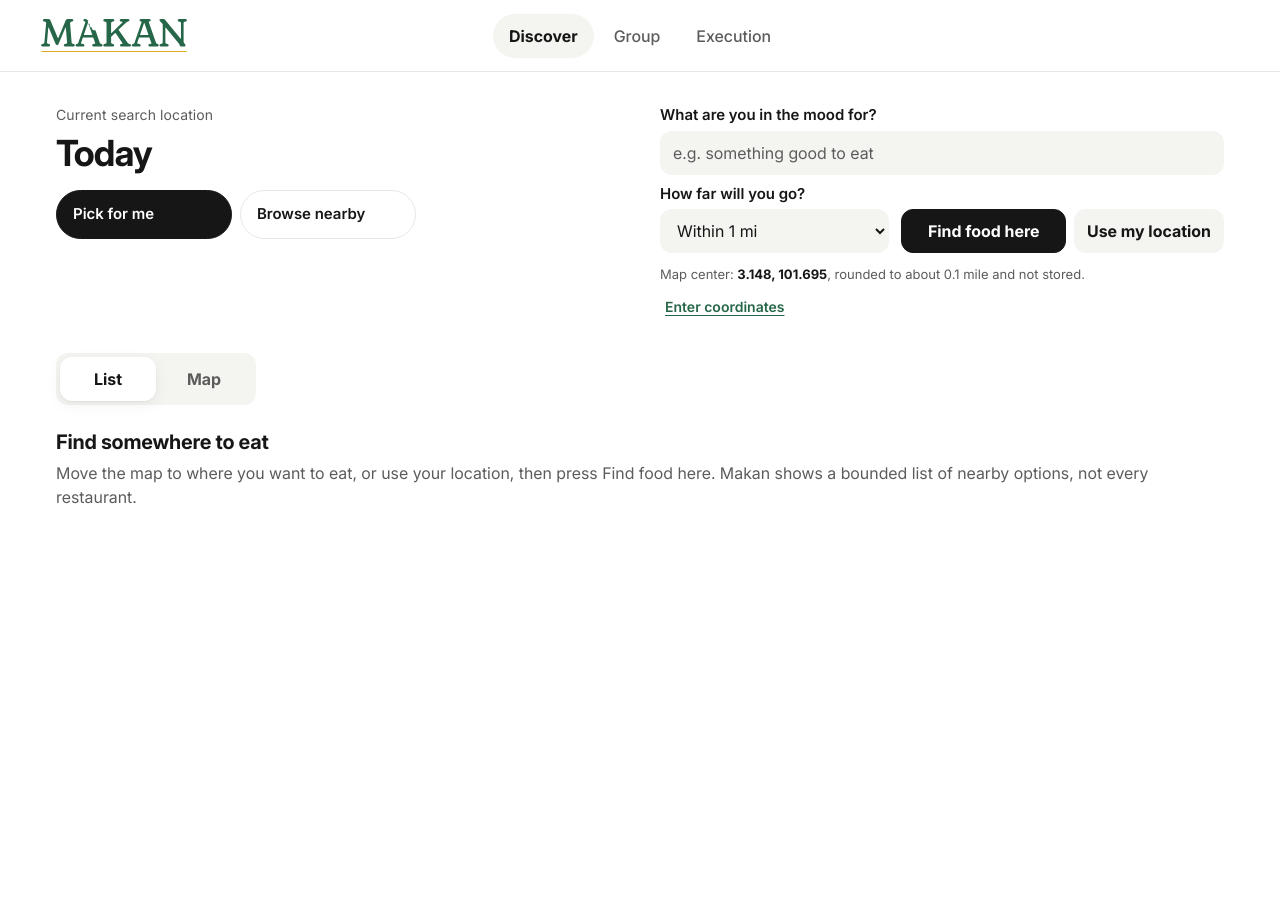
Scenario: Discover › searches around the map center and lists every option with its rank and match
The image size is (1280, 900).
Type "thai please" into the field labelled "What are you in the mood for?" at [942, 152], box x1=660 y1=130 x2=1224 y2=174
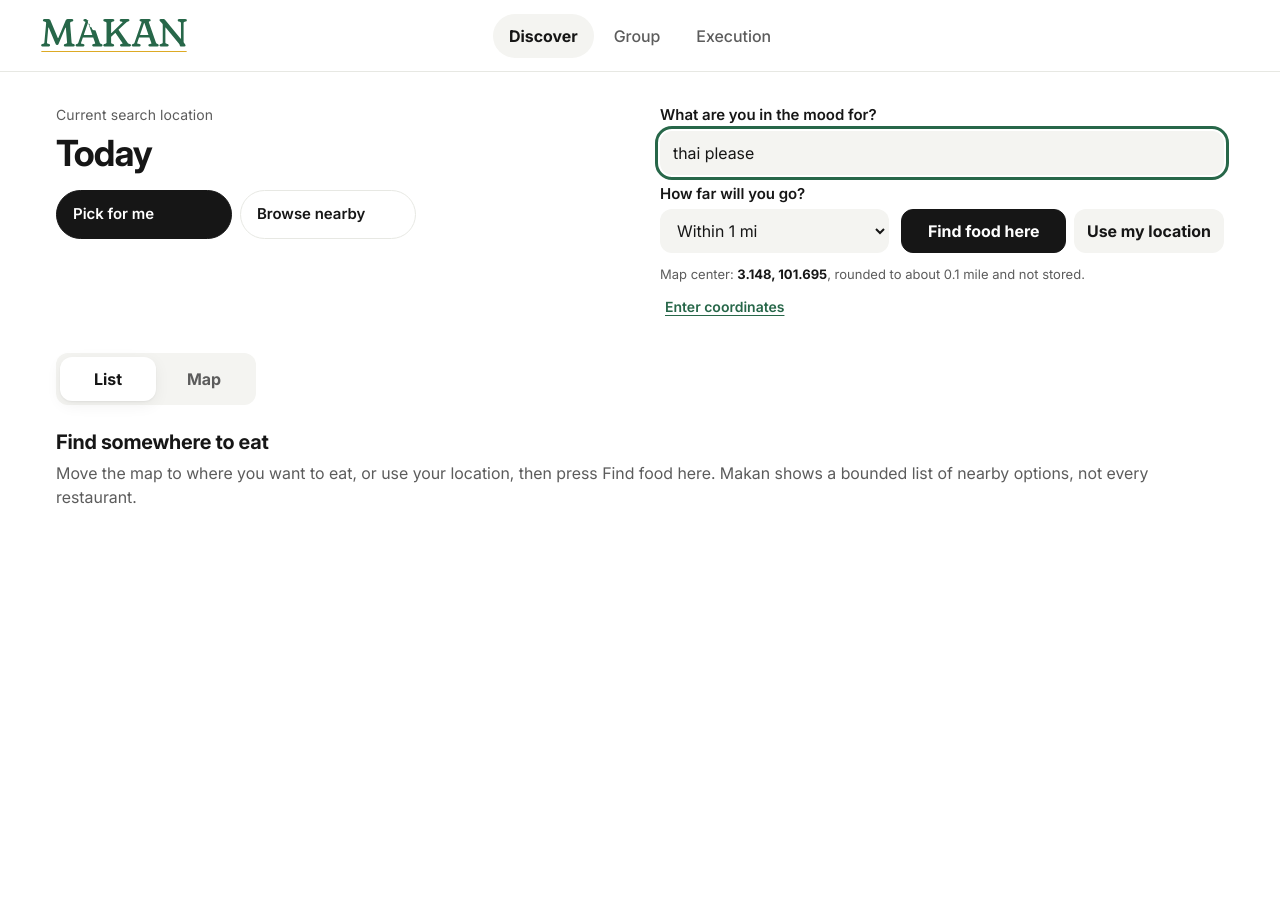
Select "Within 2 mi" in the dropdown labelled "How far will you go?" at [775, 231], box x1=660 y1=209 x2=889 y2=253
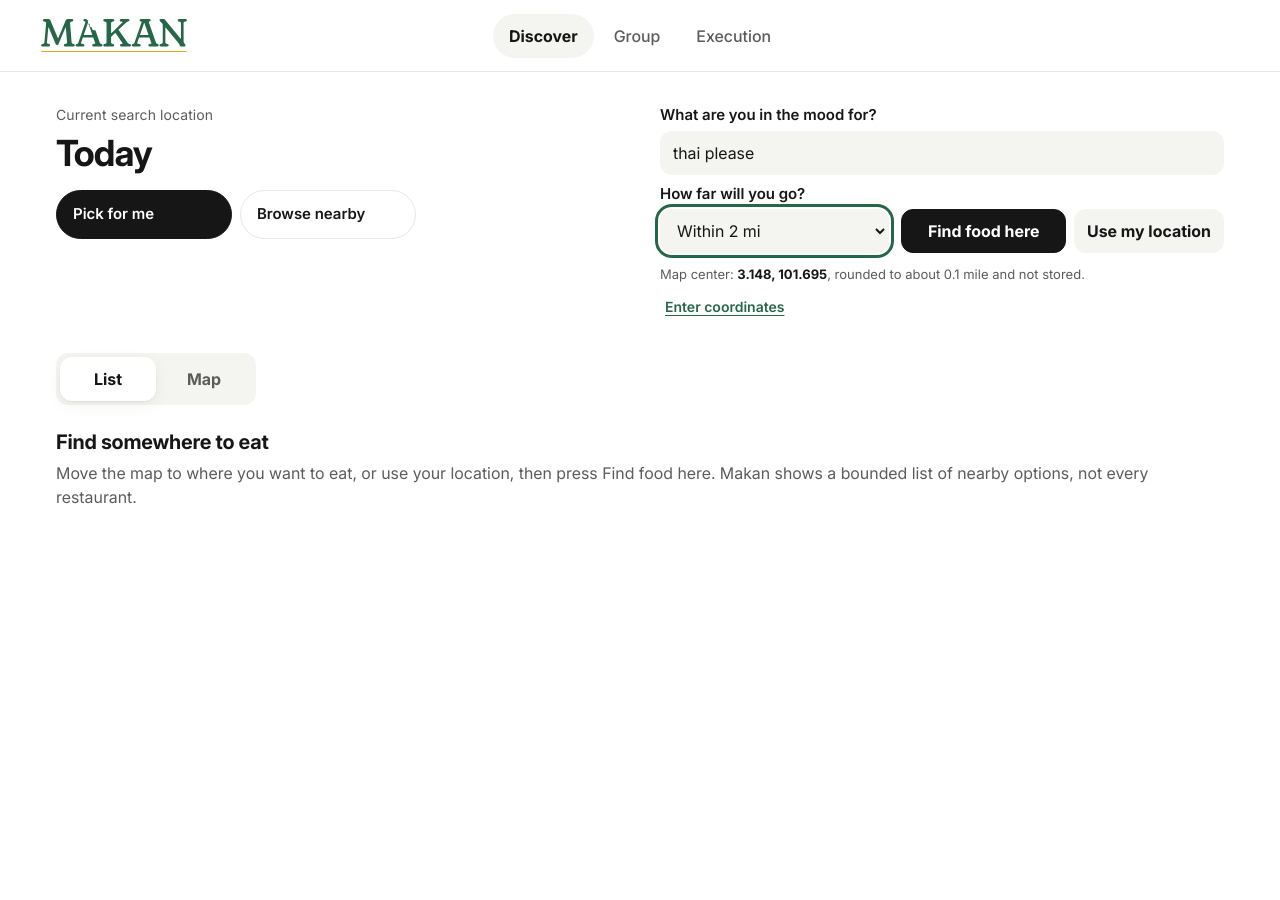
Click the button "Find food here" at [984, 231], box x1=901 y1=209 x2=1066 y2=253
(page scrolled)
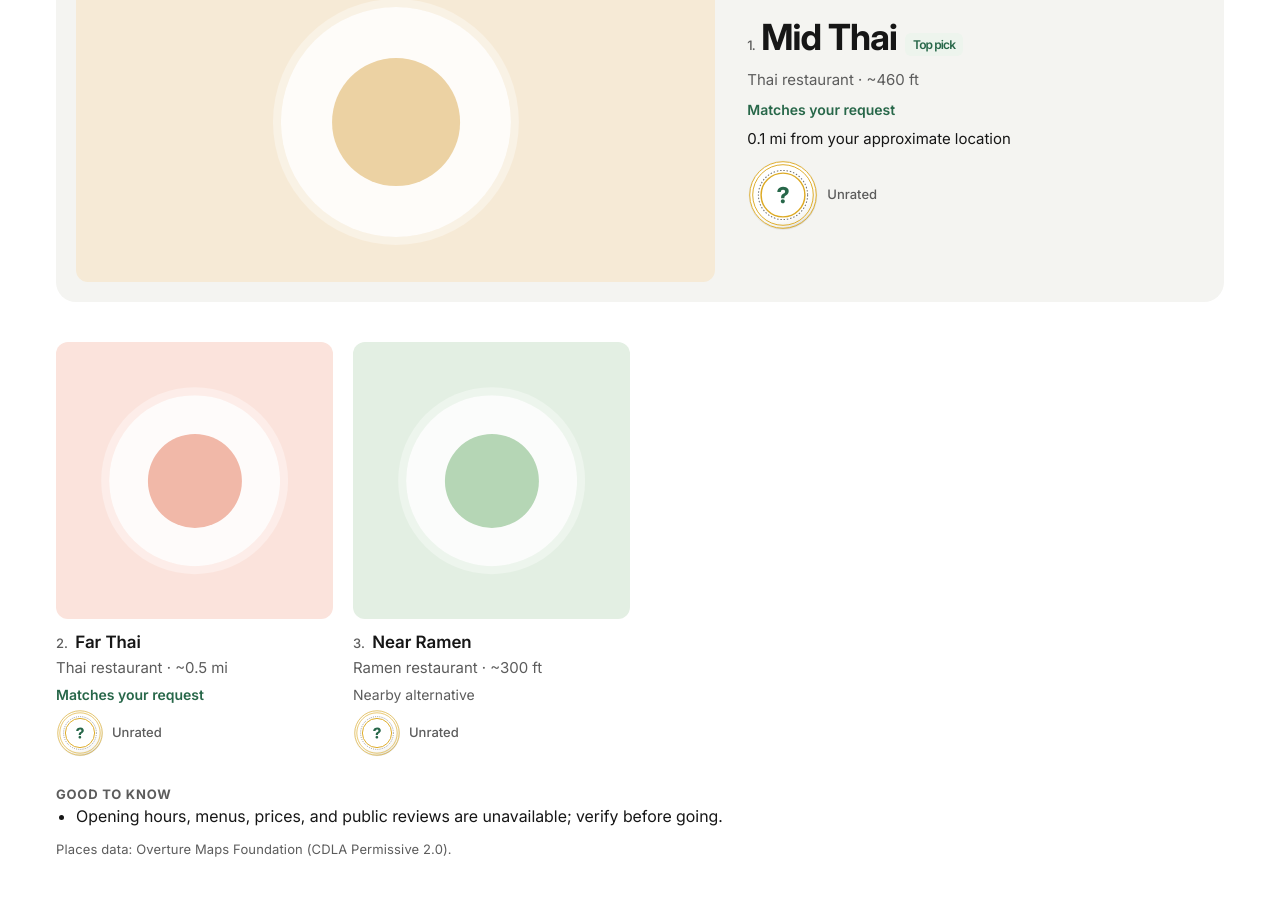
Expected: the text "Top pick" is shown, x1=905 y1=33 x2=963 y2=56
Expected: the 1st text "Matches your request" is shown, x1=747 y1=101 x2=895 y2=118
Expected: the text "Thai restaurant · ~460 ft" is shown, x1=747 y1=70 x2=919 y2=89
